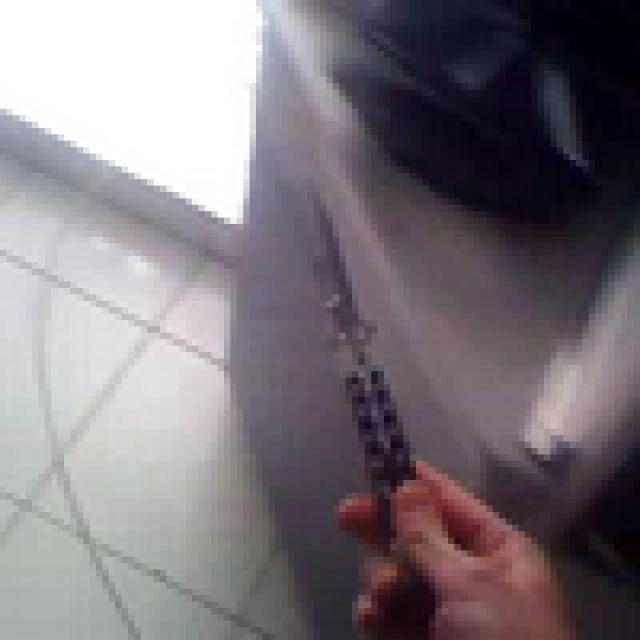weapon: (211, 109, 480, 595)
